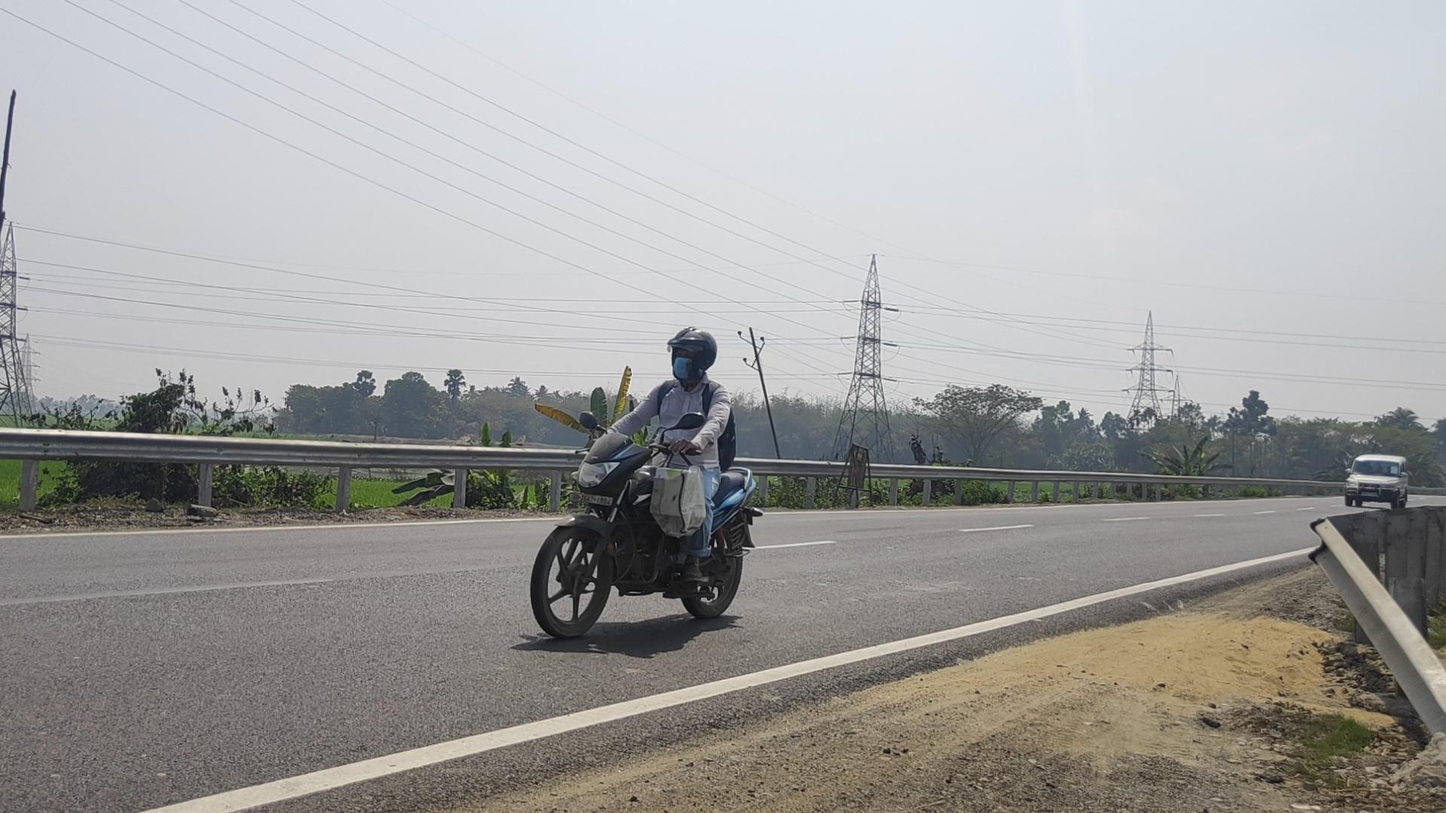bike: (530, 326, 764, 641)
car: (1344, 454, 1408, 510)
